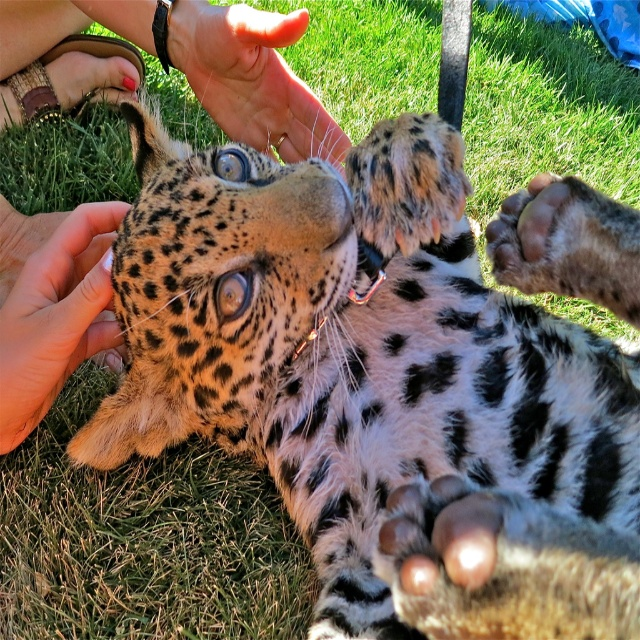Jaguar: (62, 74, 640, 639)
